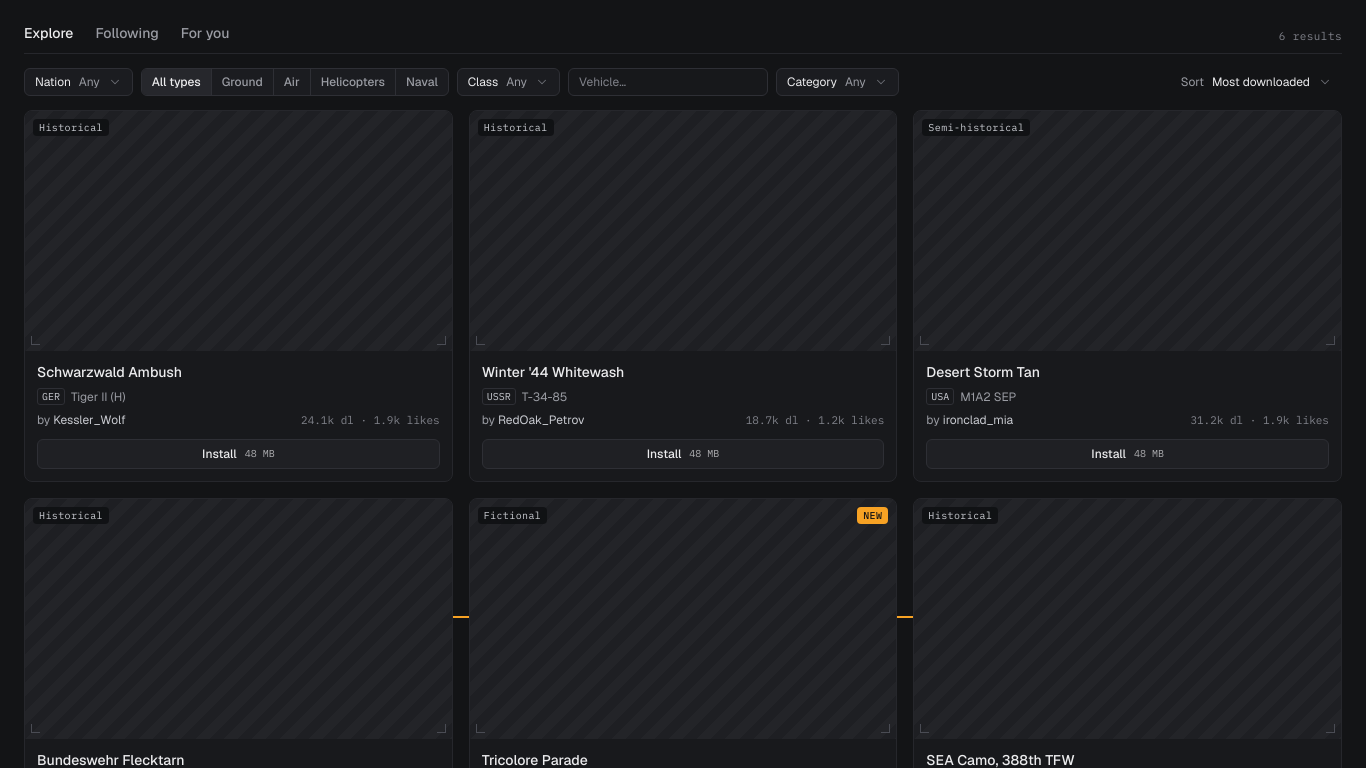
Test: Explore › a finished install shows every step ticked until the hangar shows it
expect the element "Schwarzwald Ambush" is shown: met, box [24,110,453,482]
Click the button "Install 48 MB" below "Kessler_Wolf" at (238,454), box [37,439,440,469]
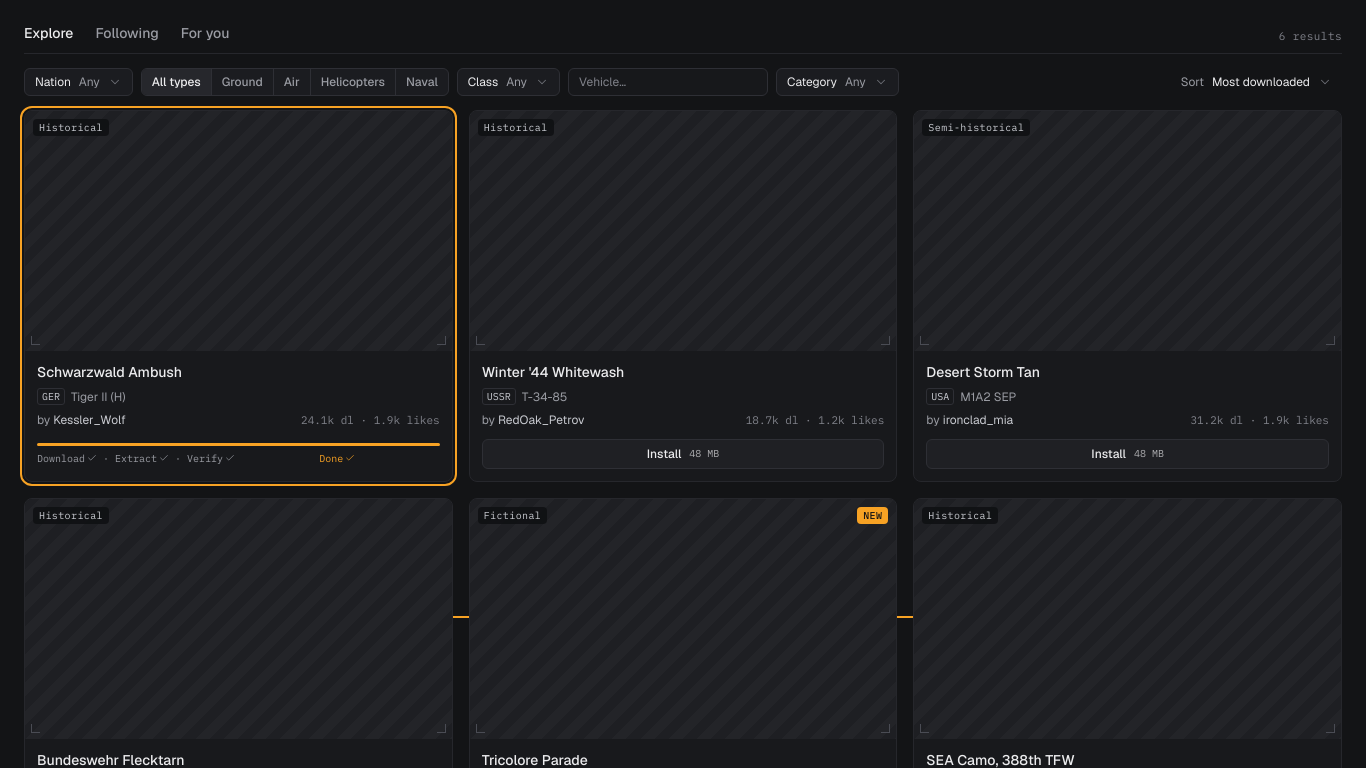
expect the text "Download · Extract · Verify" is shown: met, box [37,452,235,465]
